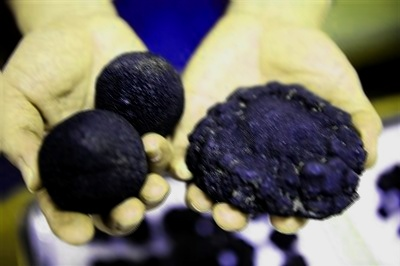halobolite: (181, 78, 373, 221), (39, 102, 148, 219), (96, 46, 190, 141)
